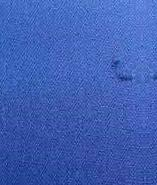knot: (109, 57, 136, 87)
